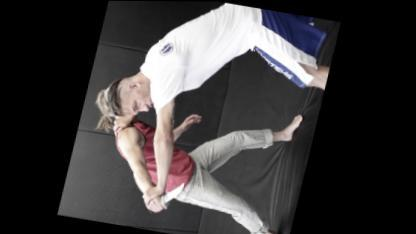knife: (150, 174, 192, 220)
